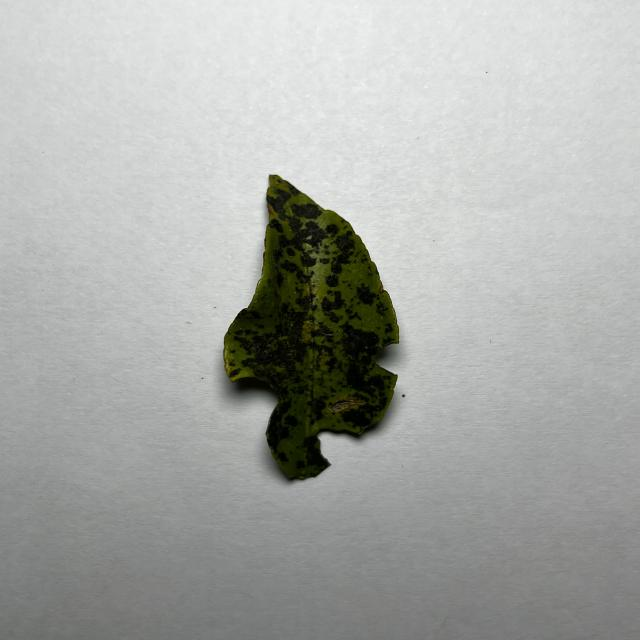sooty_mold: (224, 175, 398, 479)
